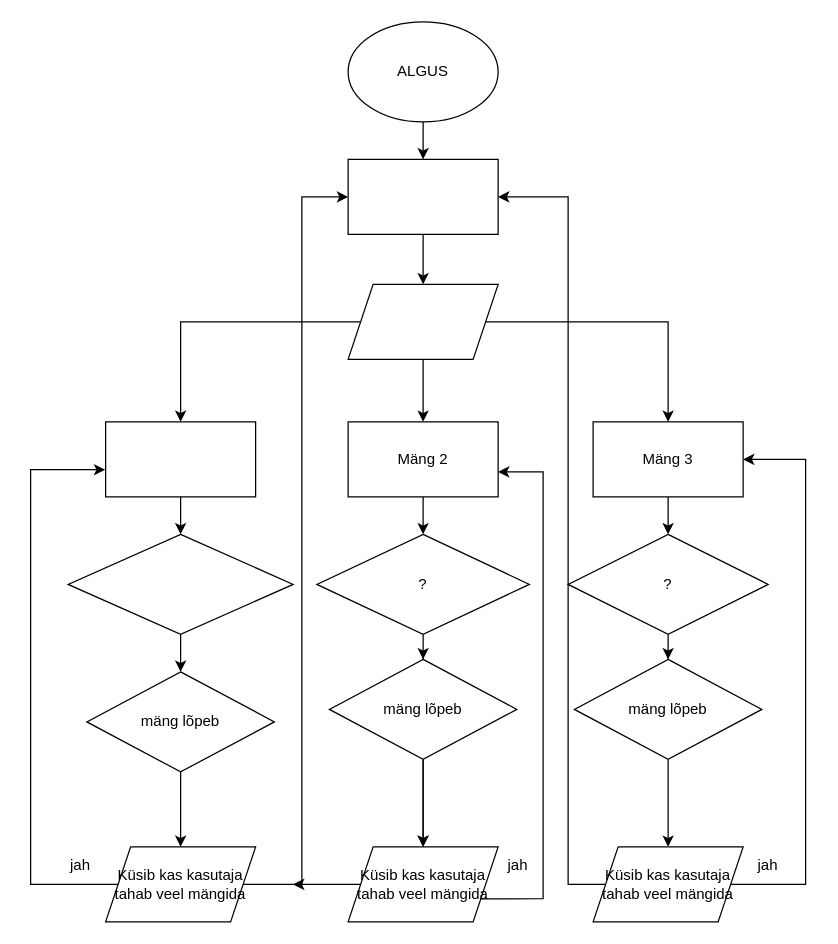
This 838x944 diagram has some shape labels left out. The shapes that lost their labels are listed below. From the top down, each one's centre as x and y in pixels, then its label:
At point 422,196: "Tervitus".
At point 422,321: "Mis mängu tahab kasutaja mängida".
At point 180,459: "Mäng 1".
At point 180,583: "Genereerib suvalise numbri".
